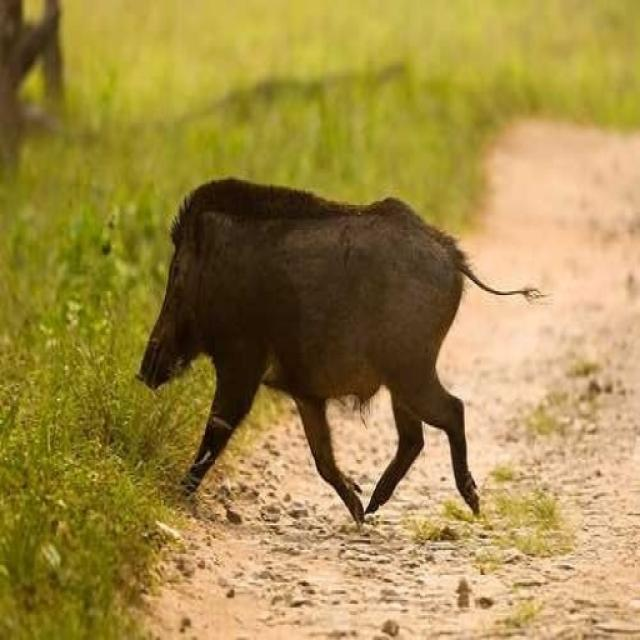pig: (135, 127, 558, 555)
